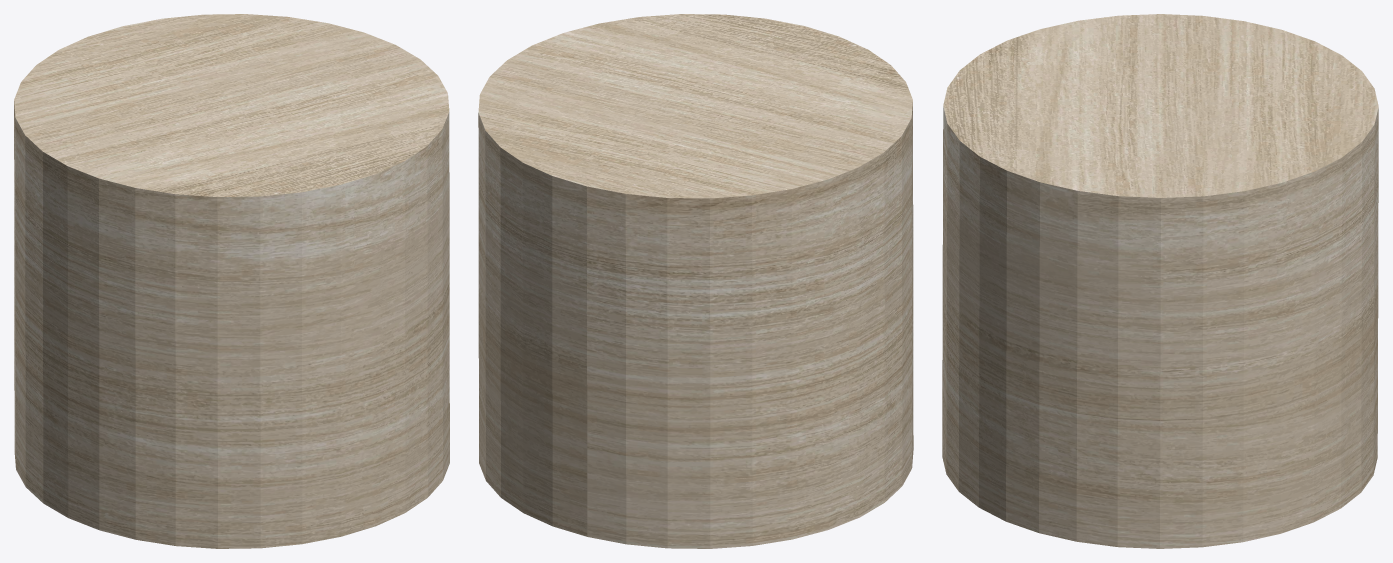
Rendered from modeling09.glb.
3 views of the same model, side by side, from view 1: azimuth 30°, elevation 25°; view 2: azimuth 150°, elevation 25°; view 3: azimuth 270°, elevation 25° (orthographic).
Parts seen in each view (by area): view 1: 실린더.001; view 2: 실린더.001; view 3: 실린더.001.
Part boxes in pixels (x1=…): 실린더.001: x1=14, y1=14, x2=449, y2=548; 실린더.001: x1=478, y1=14, x2=913, y2=548; 실린더.001: x1=942, y1=14, x2=1378, y2=548.
Size of the model in its own units: 0.7803 by 0.6958 by 0.7821.
Materials: 1 (1 with a texture image).
